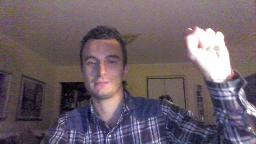Pugno: (179, 22, 232, 73)
